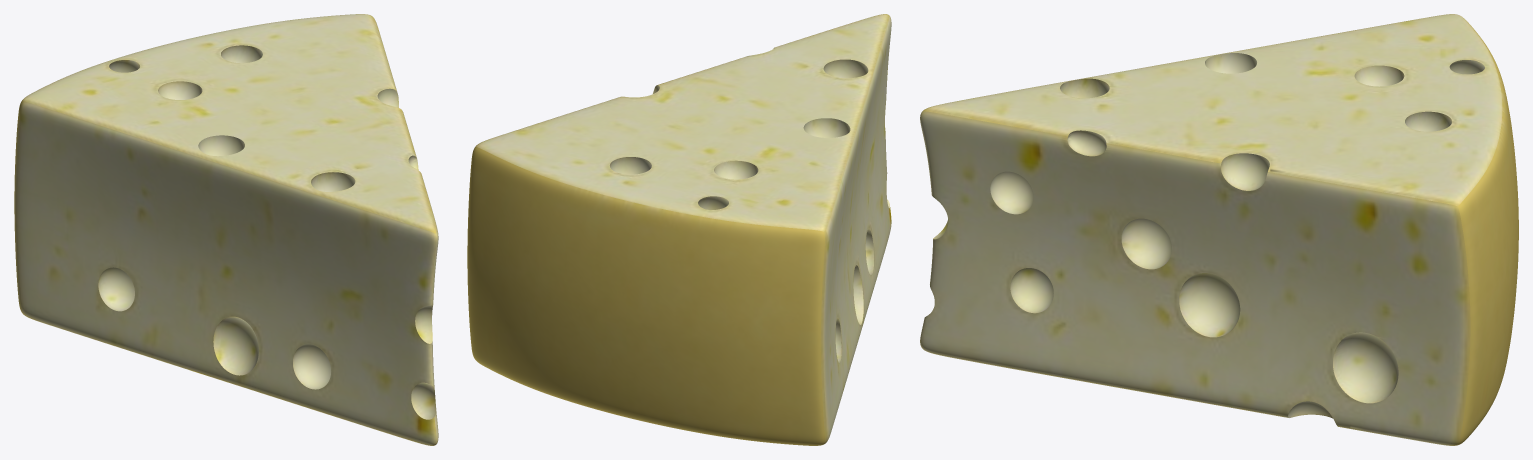
File: SM_Cheese.fbx
3 views of the same model, side by side, from view 1: azimuth 30°, elevation 25°; view 2: azimuth 150°, elevation 25°; view 3: azimuth 270°, elevation 25° (orthographic). The views are drawn at different scales.
Visible parts, largest first — view 1: Cheese; view 2: Cheese; view 3: Cheese.
Part boxes in pixels (x1=…): Cheese: x1=14, y1=14, x2=438, y2=445; Cheese: x1=467, y1=14, x2=891, y2=445; Cheese: x1=920, y1=14, x2=1518, y2=445.
Size of what is drawn, in the model's own units: 8.92 by 11.64 by 5.4.
